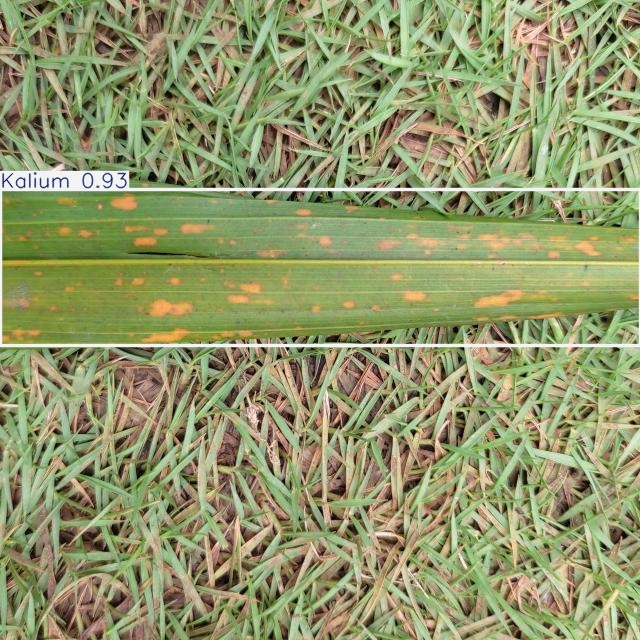Kalium: (0, 190, 640, 346)
